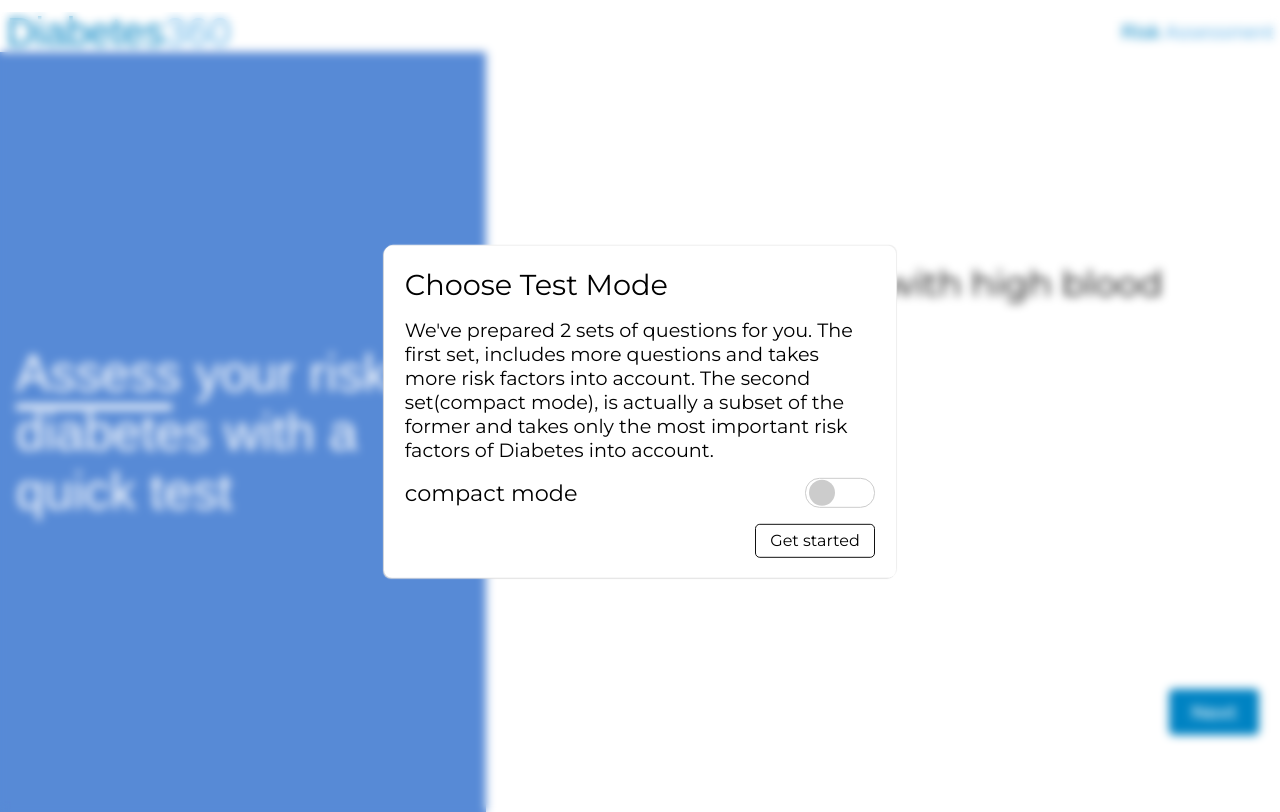
assessment introduction dialog tests › test mode dialog should close after 'start' button is pushed.
Click the button with test id "start-test" at (815, 541), box [755, 524, 875, 558]
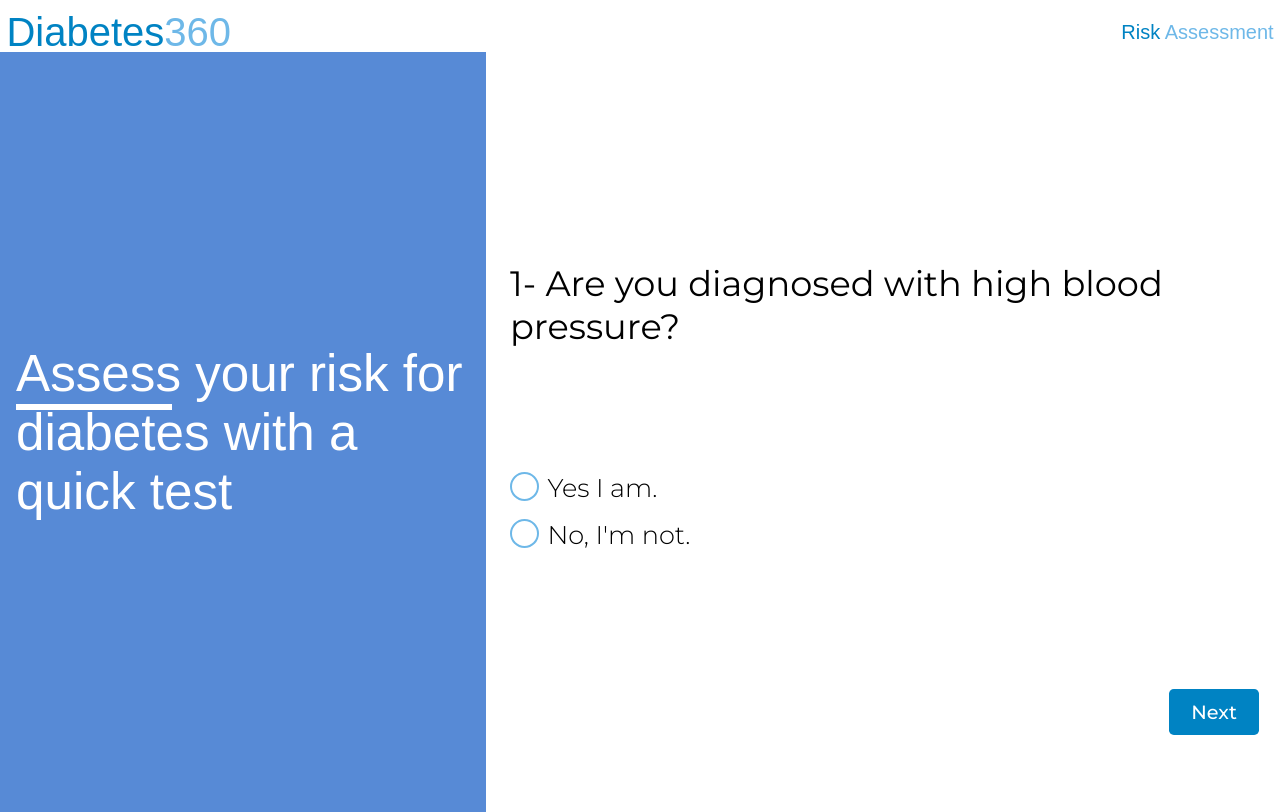
Result: the button with test id "start-test" is gone
